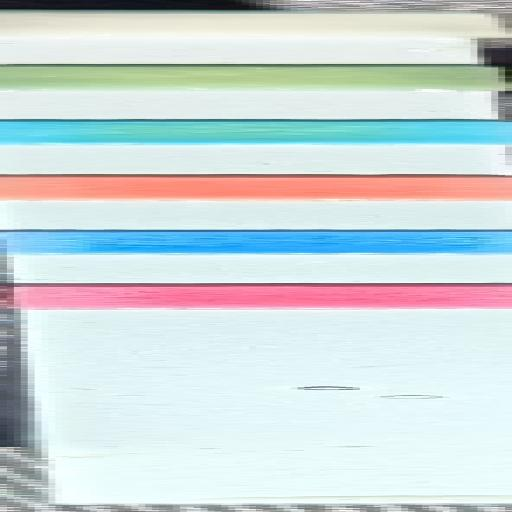pads: (0, 9, 512, 40), (0, 63, 512, 91), (0, 175, 512, 202), (0, 229, 512, 256), (0, 283, 512, 310), (0, 120, 512, 145)
